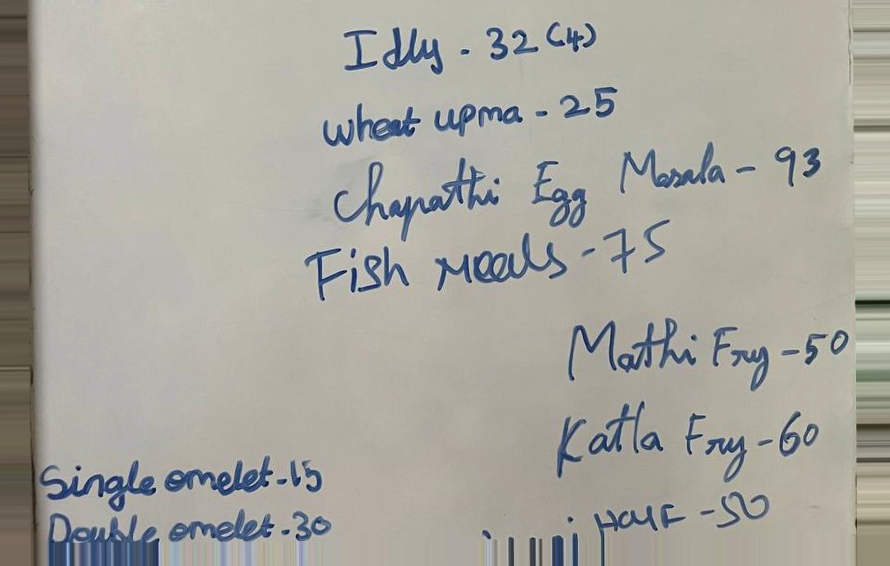chapathi egg masala - 93: (333, 143, 821, 234)
double omelet - 30: (46, 509, 338, 551)
fish Meals - 75: (301, 227, 668, 308)
idly(4) - 32: (337, 16, 603, 71)
katla fry - 60: (553, 405, 819, 485)
mathi fry - 50: (566, 320, 849, 393)
single omelet - 15: (36, 455, 327, 510)
wheat upma - 25: (317, 86, 620, 144)
